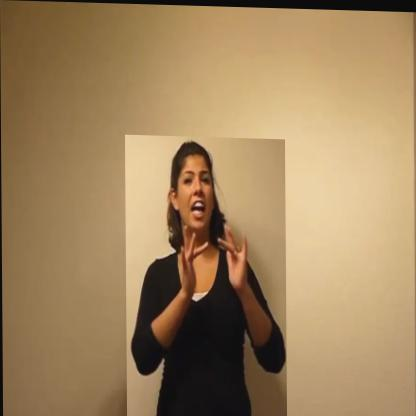Internet: (125, 134, 286, 416)
